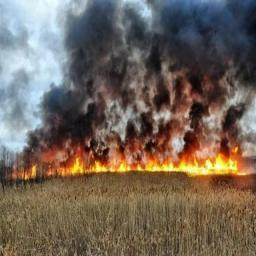Heavy smoke: (7, 9, 256, 170)
Small fire: (3, 149, 256, 189)
